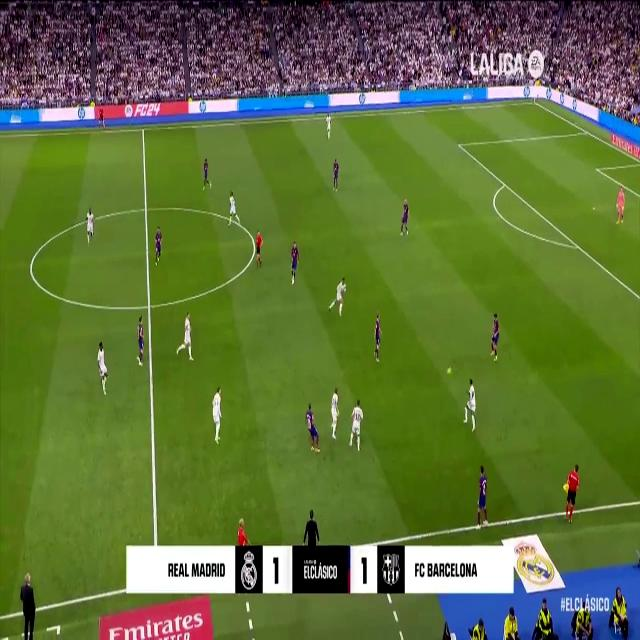bigarea_top_inner: (456, 137, 462, 151)
bigarea_top_outter: (583, 126, 589, 136)
bottom_arc_area_intersection: (573, 238, 581, 254)
corner: (531, 98, 537, 106)
halfcircle_bottom: (144, 293, 154, 317)
halfcircle_top: (140, 198, 151, 219)
midline_top_intersection: (140, 123, 146, 136)
smallarea_top_inner: (594, 162, 600, 174)
top_arc_area_intersection: (501, 176, 508, 190)
